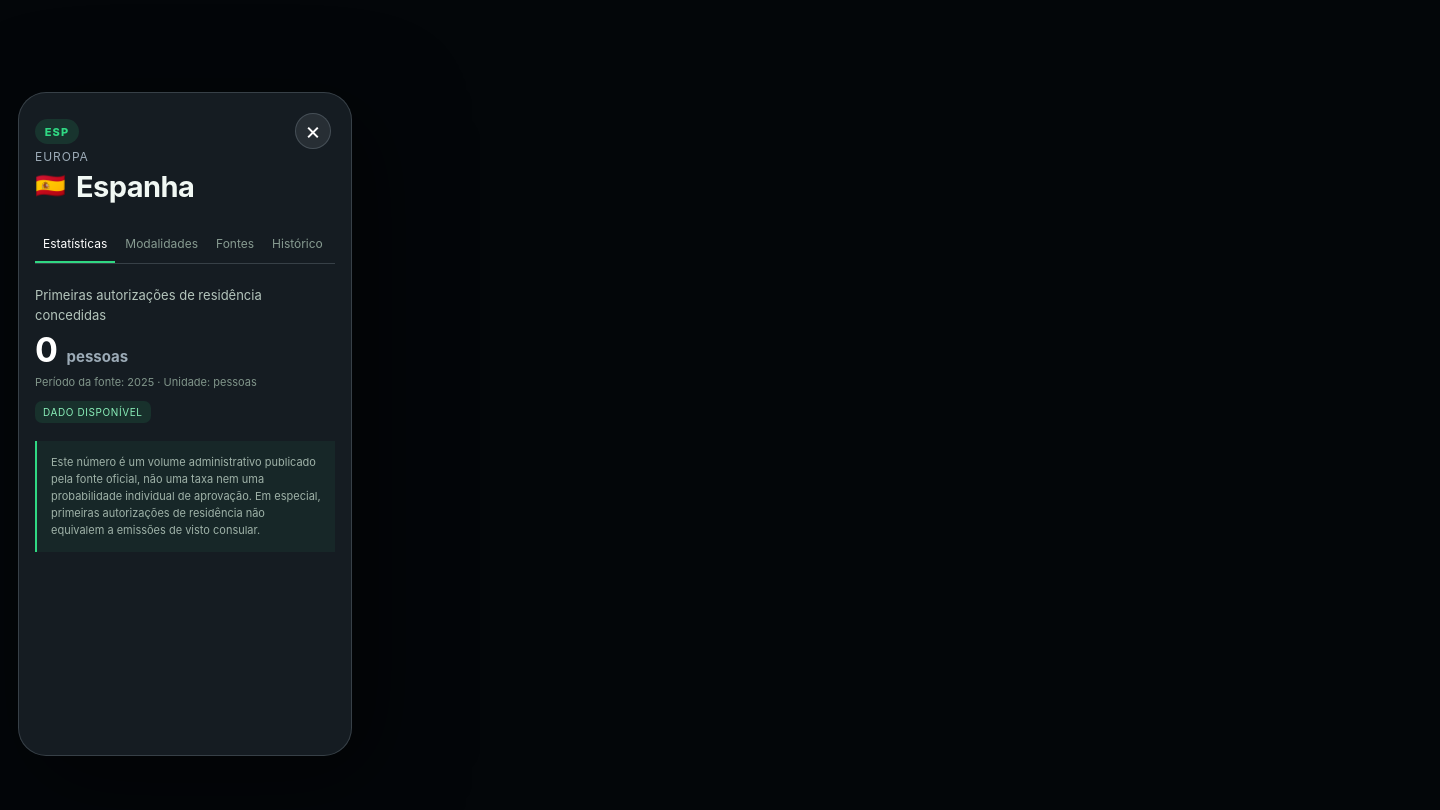
it: CountryPanel › carrega a série histórica somente quando a aba é aberta
Expected: the heading "🇪🇸 Espanha" is shown, [35,169,194,204]
Click the tab "Histórico". click: (298, 244)
box: [264,226,331,263]
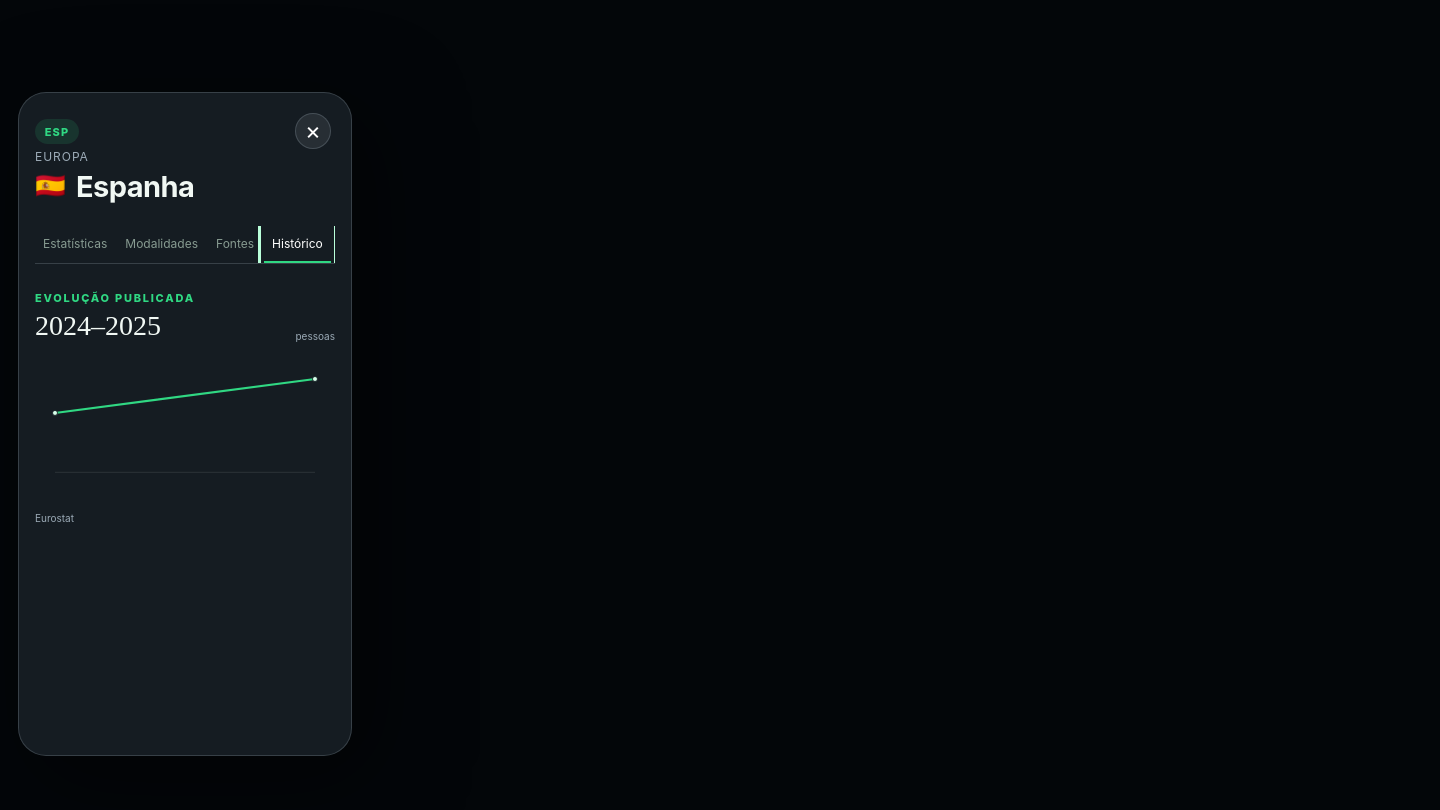
Expected: the picture named "Série histórica" is shown, [35,354,335,496]
